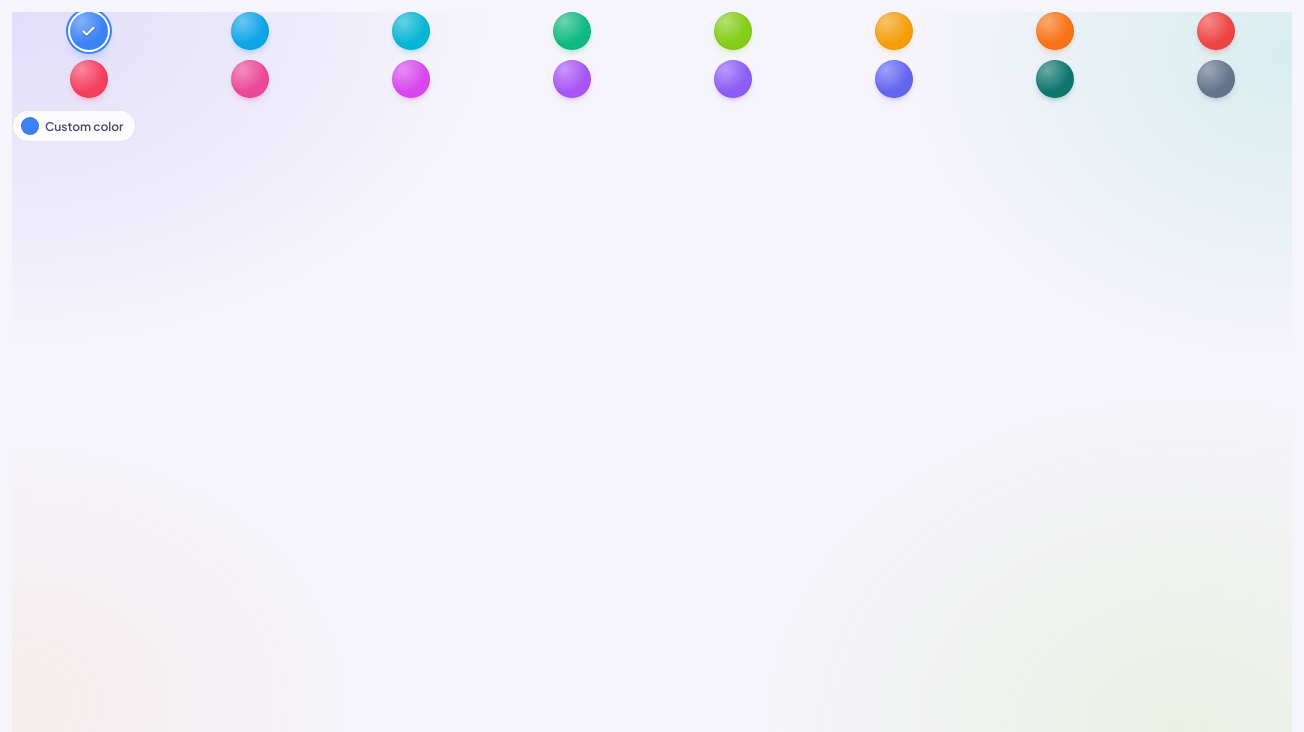
Test: ColorPicker › custom color › toggles the editor with the custom color button
Click the button "Custom color" at (74, 126), box top-left (12, 110), bottom-right (136, 142)
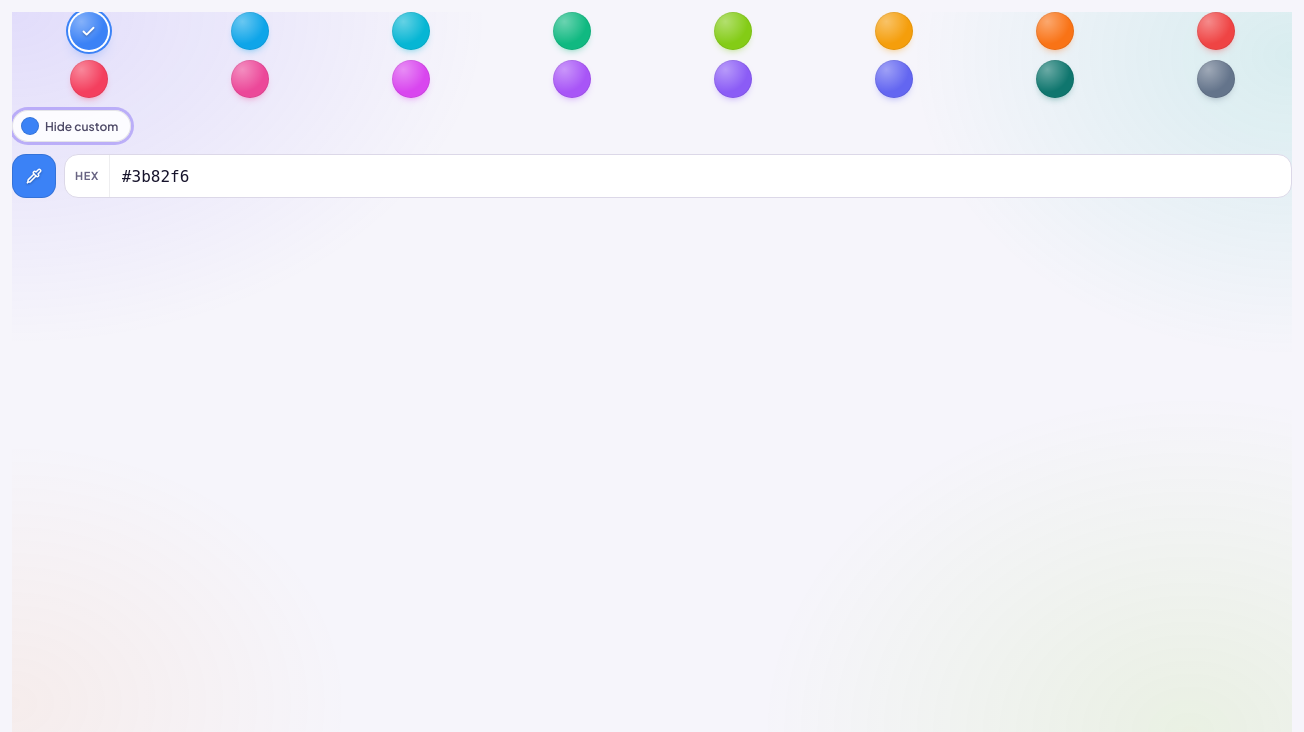
Expected: the button "Hide custom" is expanded
Expected: the field named "Hex color code" holds "#3b82f6", top-left (110, 155), bottom-right (1291, 197)
Click the button "Hide custom" at (72, 126), box top-left (12, 110), bottom-right (131, 142)
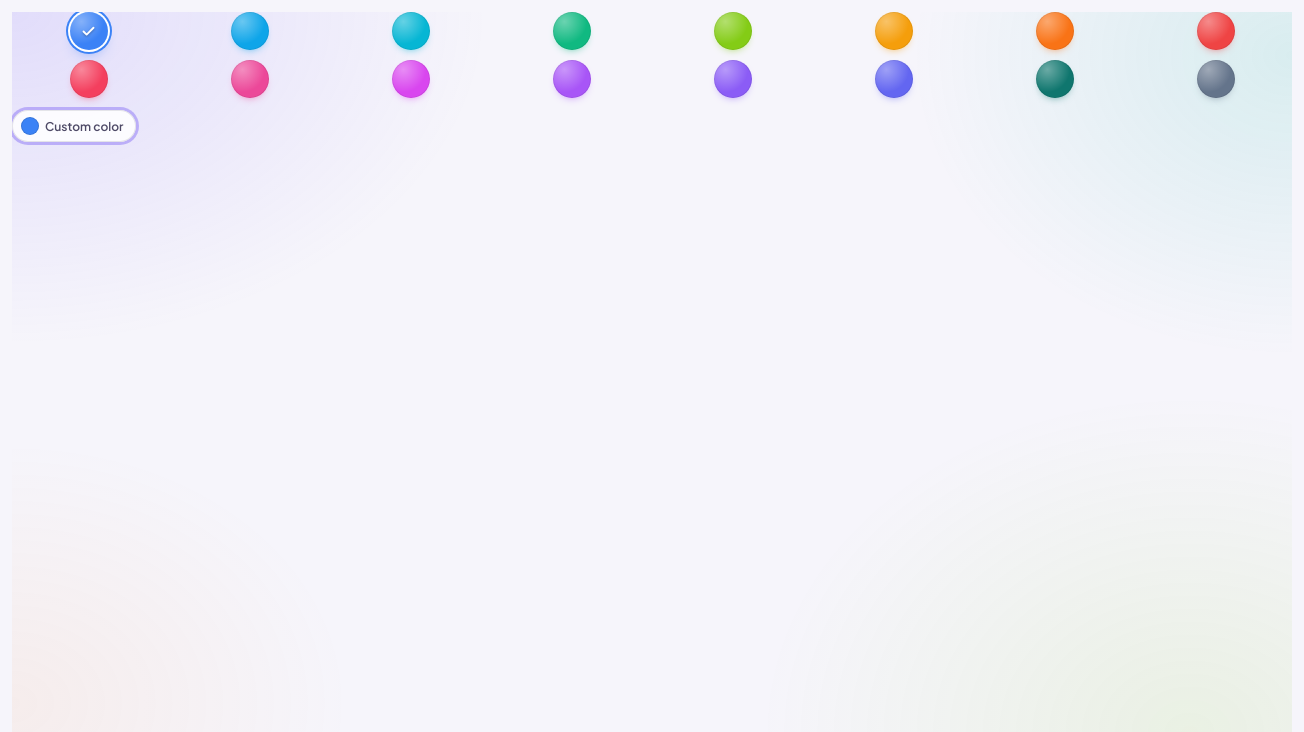
Expected: the button "Custom color" is collapsed, top-left (12, 110), bottom-right (136, 142)
Expected: the button "Custom color" is shown, top-left (12, 110), bottom-right (136, 142)
